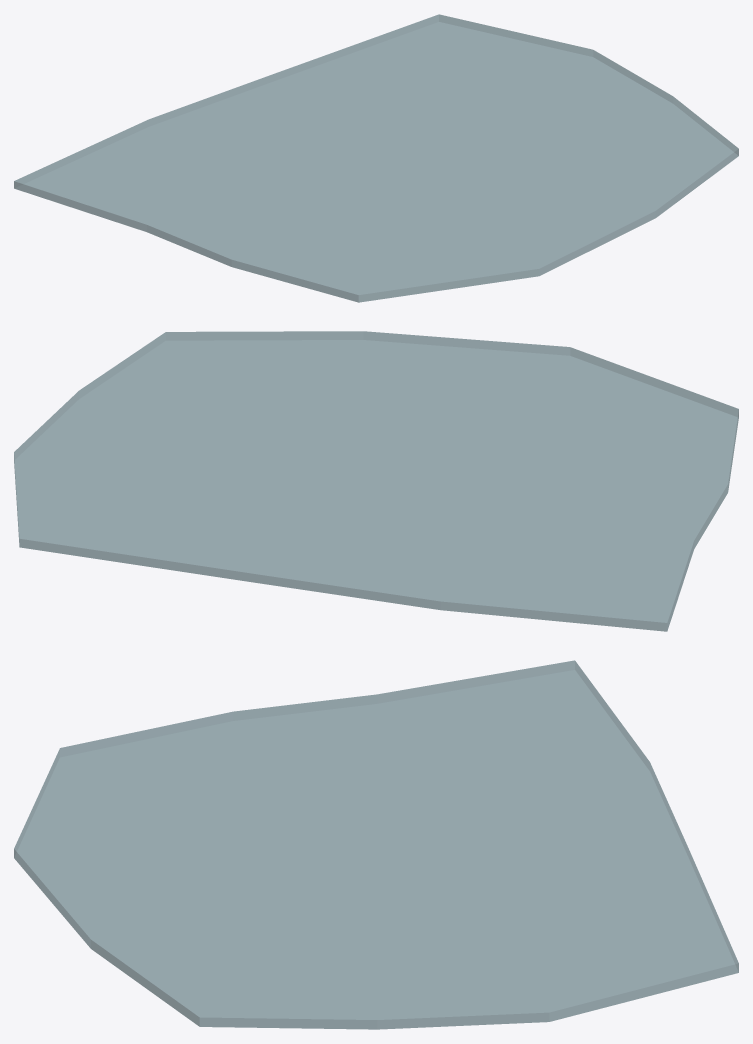
The model's file is puddle.fbx.
3 renders of one model, top to bottom at view 1: azimuth 30°, elevation 25°; view 2: azimuth 150°, elevation 25°; view 3: azimuth 270°, elevation 25°, orthographic. The views are drawn at different scales.
Visible parts, largest first — view 1: puddle; view 2: puddle; view 3: puddle.
Part boxes in pixels (<box>): puddle: <box>14,14,738,302</box>; puddle: <box>14,331,738,631</box>; puddle: <box>14,660,738,1029</box>.
Size of the model in its own units: 488 by 6 by 416.
